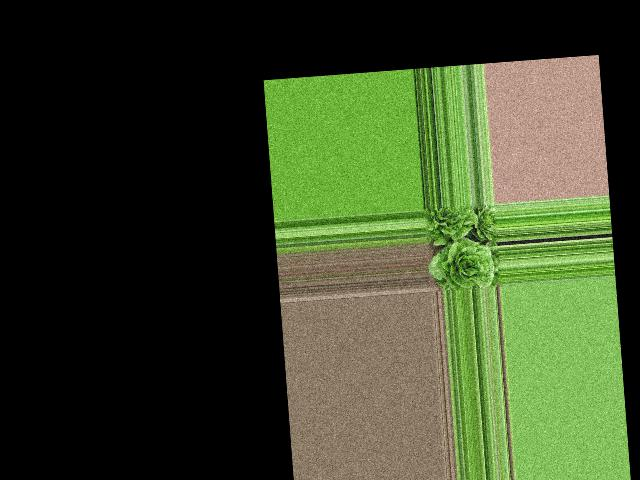lettuce: (424, 203, 479, 241)
